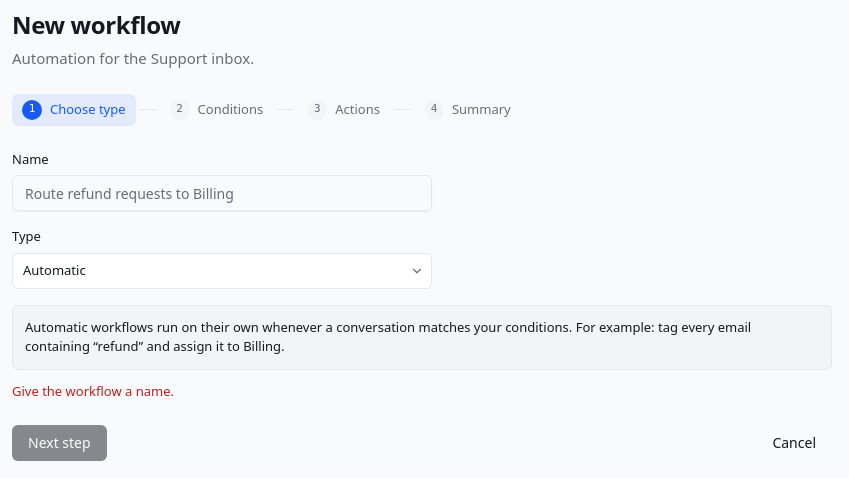
Scenario: the workflow wizard › will not advance past a step whose answer is missing
Expected: the button "Next step" is disabled, [12,425,107,461]
Type "Route refunds" into the field labelled "Name" at (222, 193), box [12,175,432,211]
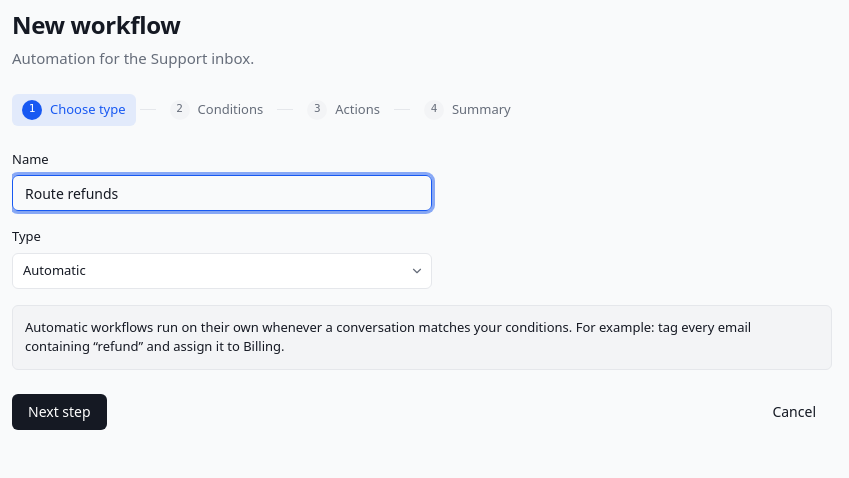
Click the button "Next step" at (59, 412), box [12,394,107,430]
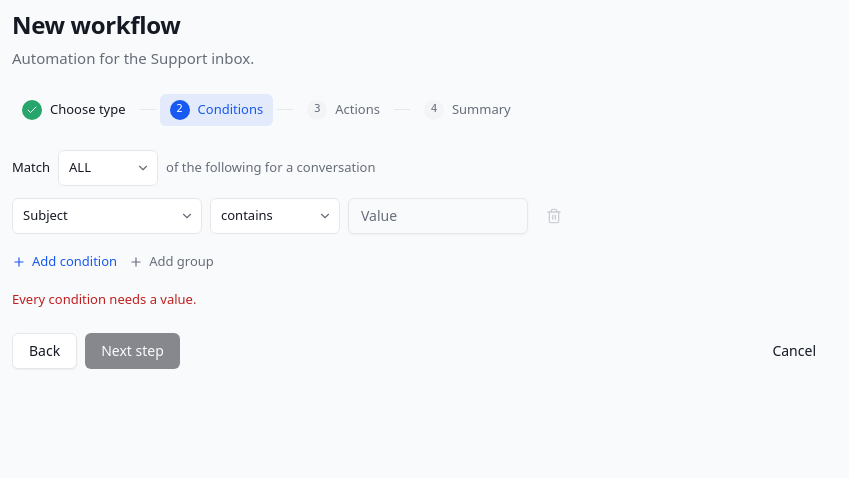
Now the dropdown named "Match mode" is shown, box [58,150,158,186]
